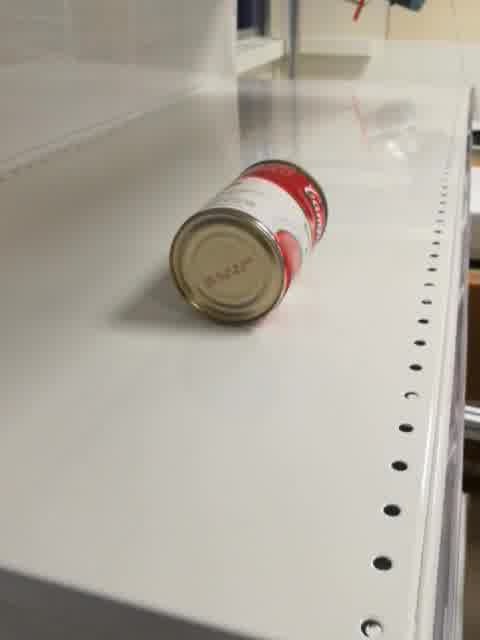tomatosoup: (169, 159, 328, 326)
